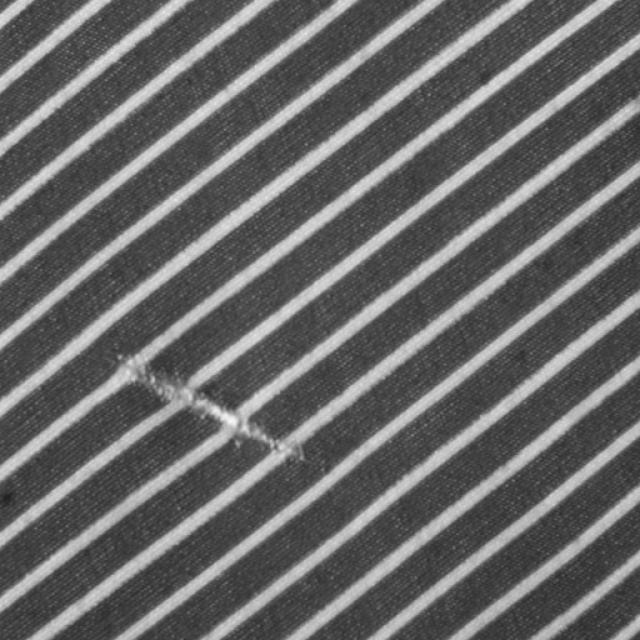Hole-Defect: (113, 349, 311, 470)
